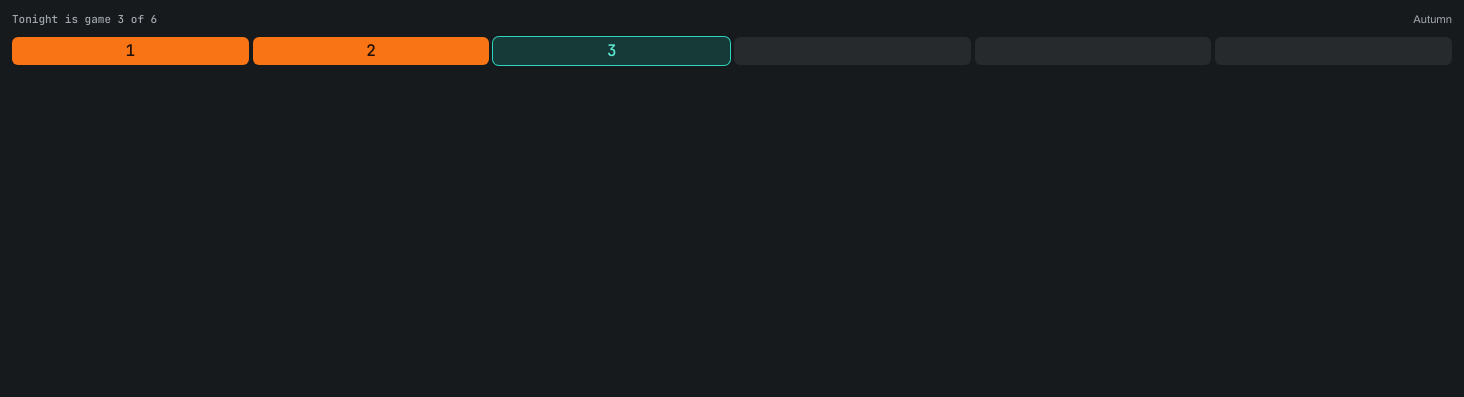
the season game bar › a past night draws with the console's CURRENT columns, on screen and in the export
The width and height of the screenshot is (1464, 397).
Later steps or results of the test are not shown.
Click the button named "Game 2". click: (371, 51)
box: [253,37,489,65]
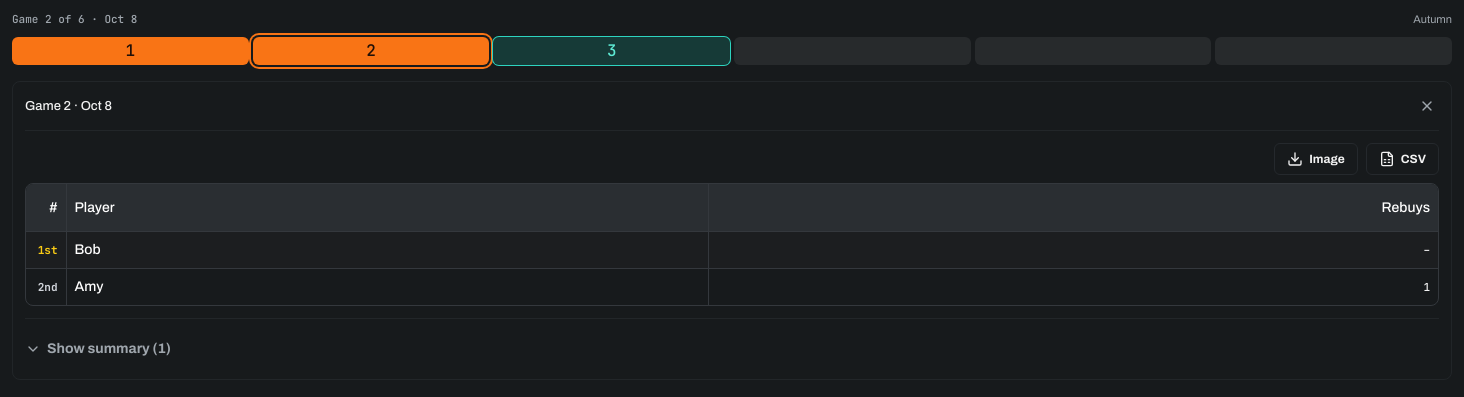
Expected: the column heading "Rebuys" is shown, [708,184,1438,232]
